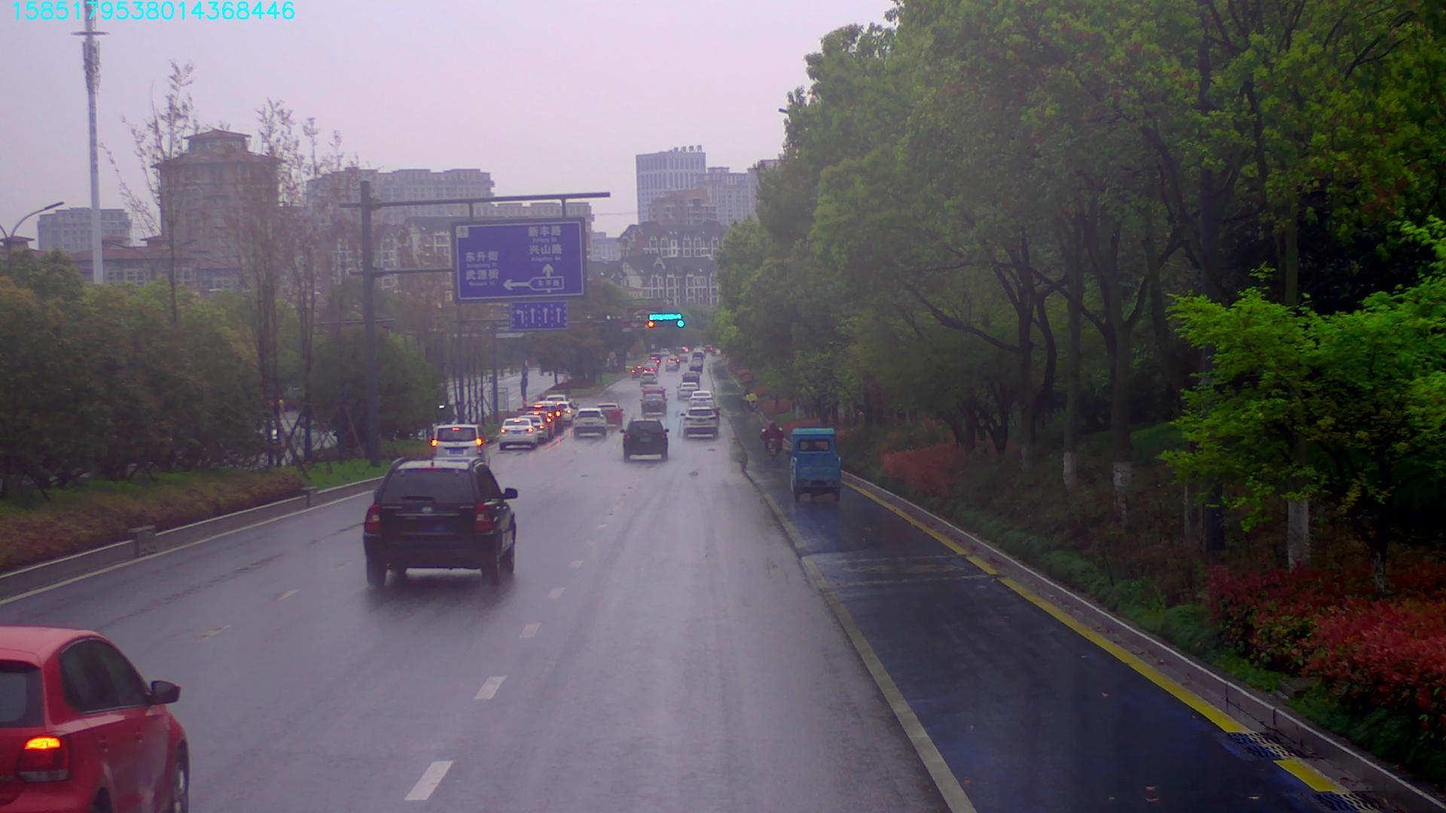green: (663, 318, 682, 328)
red: (642, 318, 660, 328)
wait_on: (649, 311, 679, 320)
